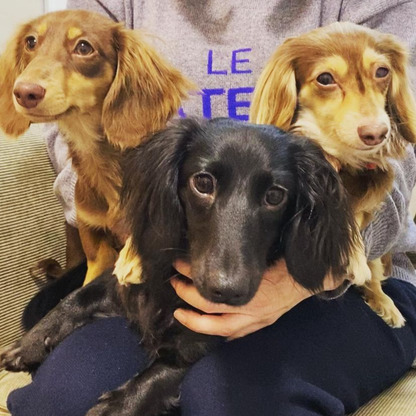dachshund: (116, 125, 344, 367), (13, 10, 151, 239), (271, 21, 408, 174)
